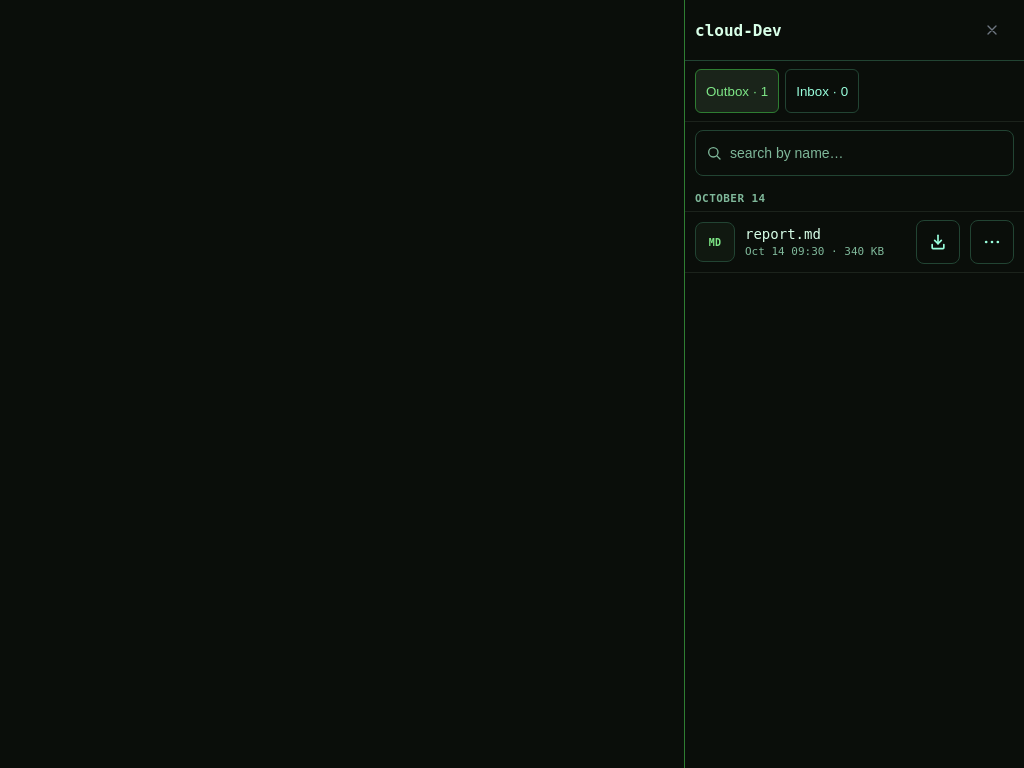
Test case: FilesPanel foglio azioni (⋯) › la conferma Elimina spedisce il nome ORIGINALE con la box attiva, rinfresca e chiude
Expected: the text "report.md" is shown, 745,226 -> 821,242
Click the button titled "file actions".
click(992, 242)  # box 970,220 -> 1014,264
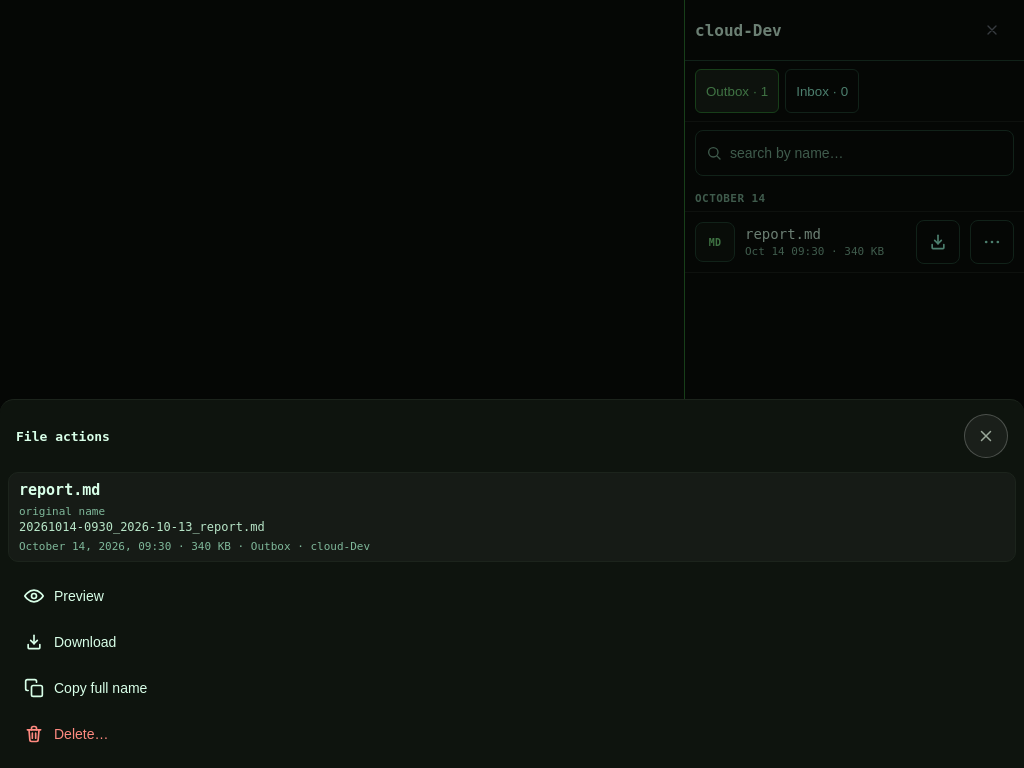
Now the element with test id "file-actions-sheet" is shown
Click the menu item "Delete…".
click(81, 734)  # box 12,712 -> 1012,756
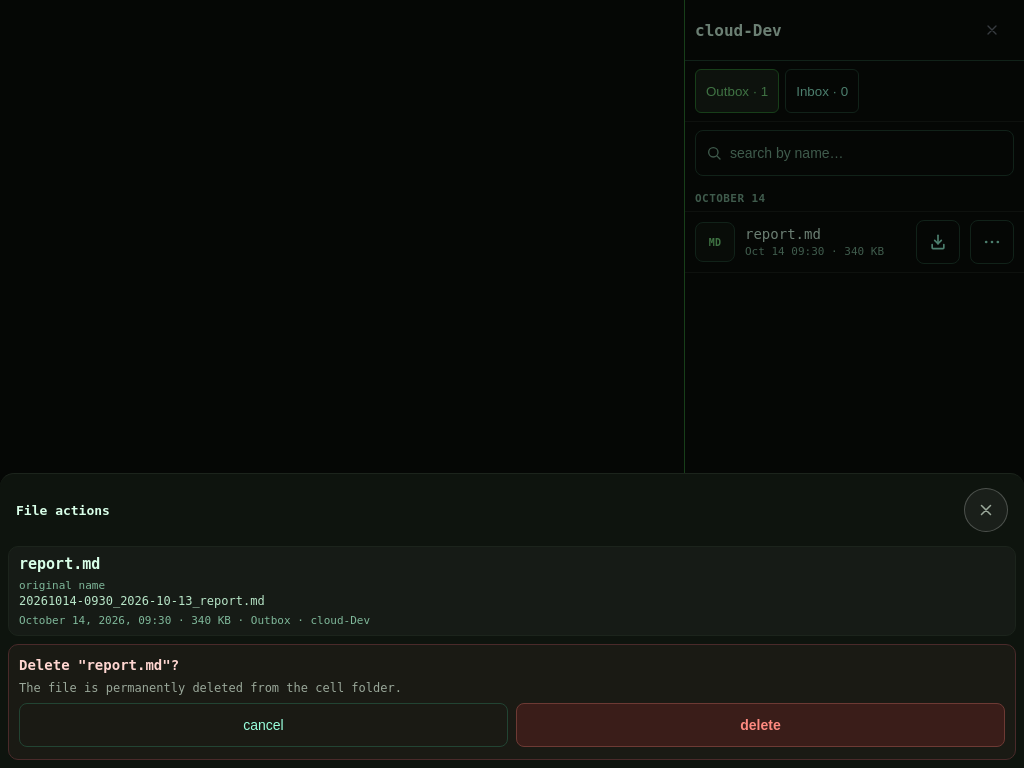
Click the button "delete".
click(760, 725)  # box 516,703 -> 1005,747
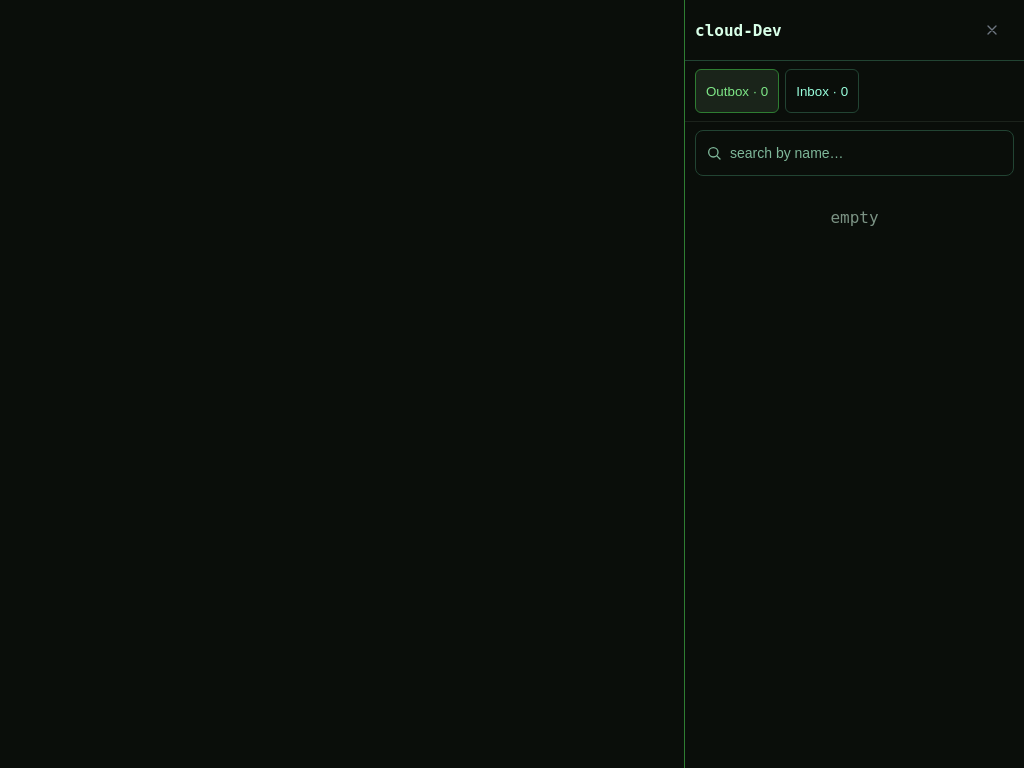
Now the element with test id "file-actions-sheet" is gone
